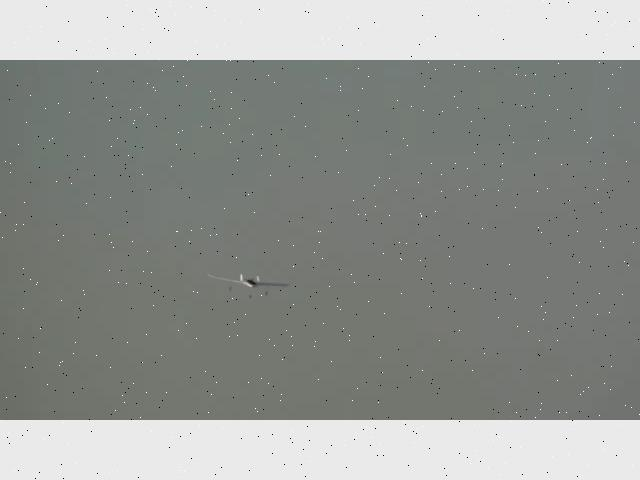Anti-Drone: (205, 275, 289, 289)
